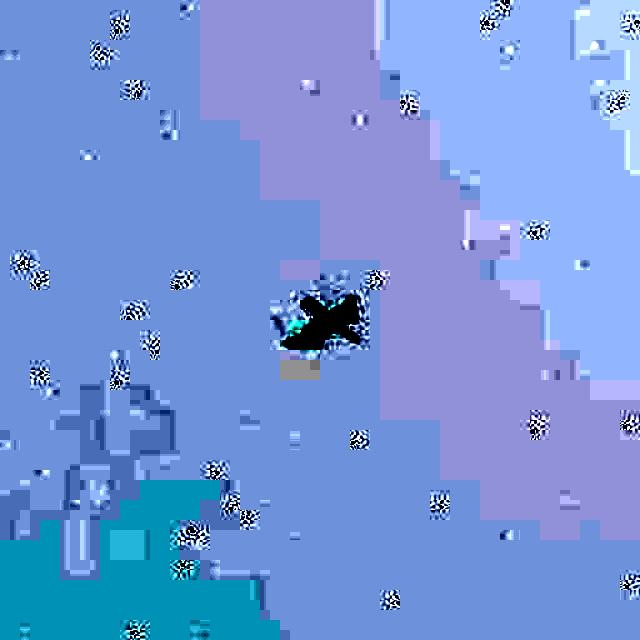airplane: (278, 289, 366, 351)
